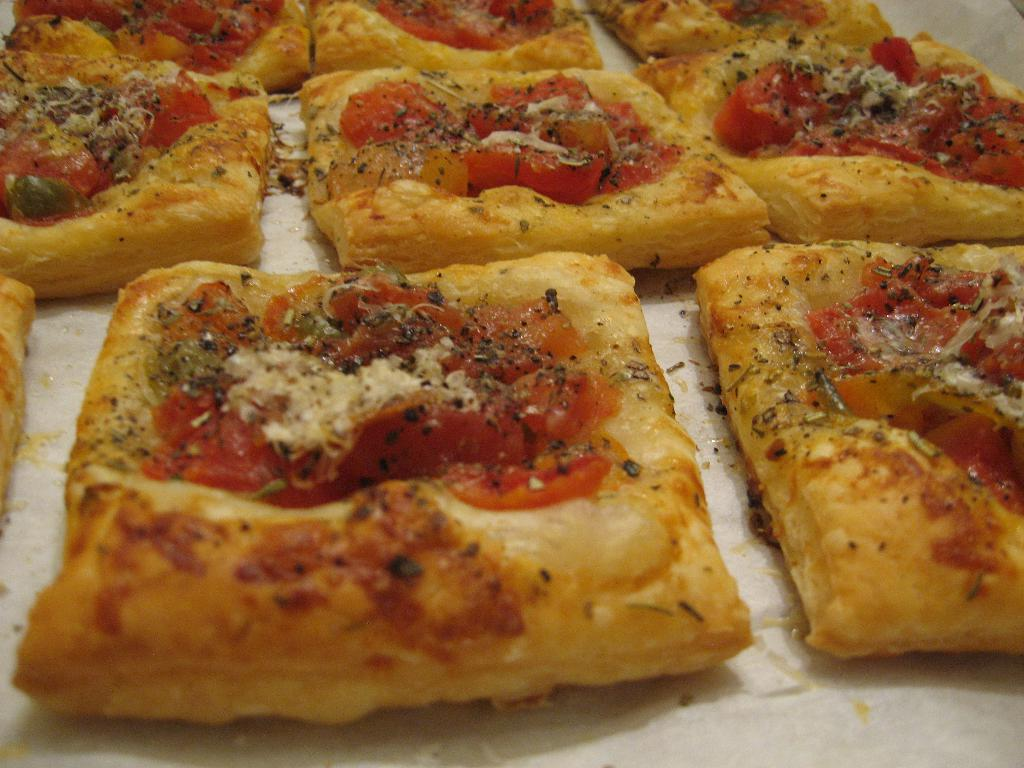pizza: (19, 249, 758, 710), (0, 0, 1023, 285), (689, 234, 1023, 654)
